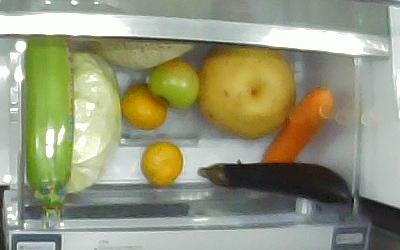cabbage: (65, 49, 122, 194)
carrot: (259, 88, 333, 163)
eggplant: (196, 162, 353, 205)
melon: (82, 40, 196, 69)
pear: (197, 43, 296, 139)
tangerine: (121, 84, 166, 130), (141, 142, 184, 188)
tomato: (147, 58, 199, 108)
zucchini: (24, 36, 74, 229)
